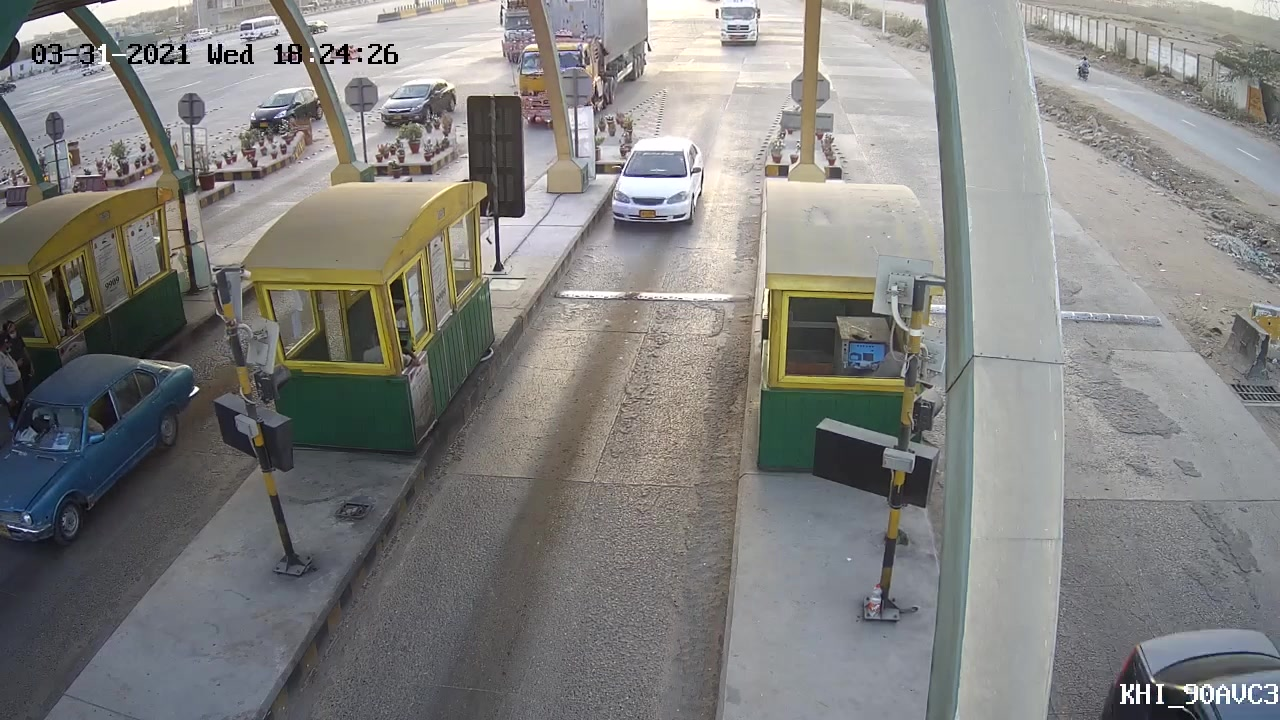F1: (606, 123, 709, 234)
